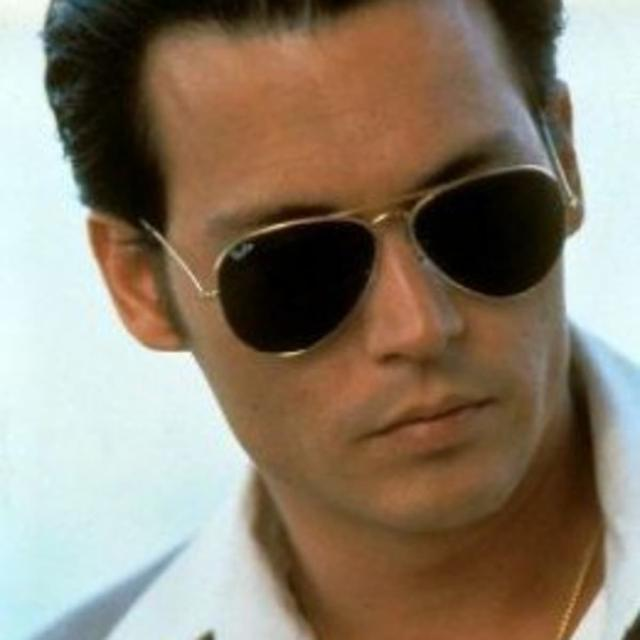Sunglasses: (183, 150, 581, 380)
